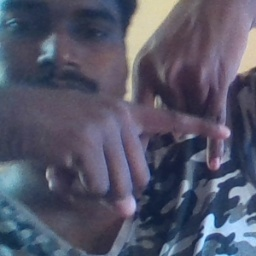H: (115, 58, 235, 185)
